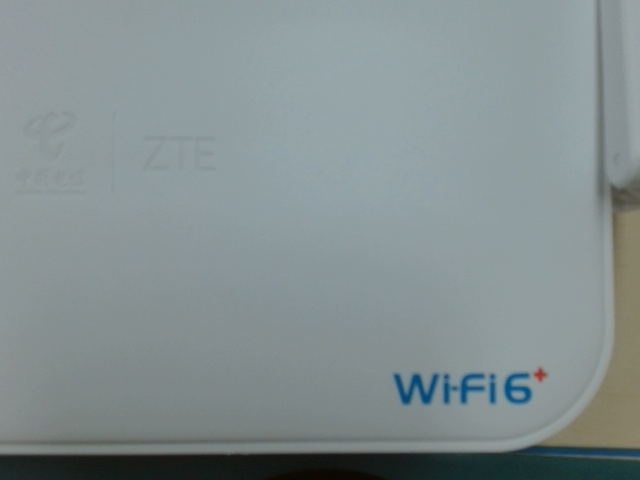AJ_ZTEWIFI6Plus: (388, 356, 568, 415)
